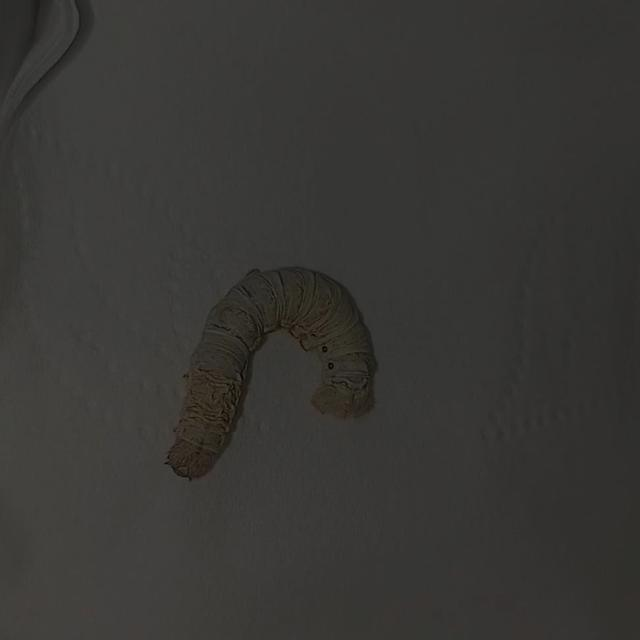Healthy: (145, 237, 407, 502)
